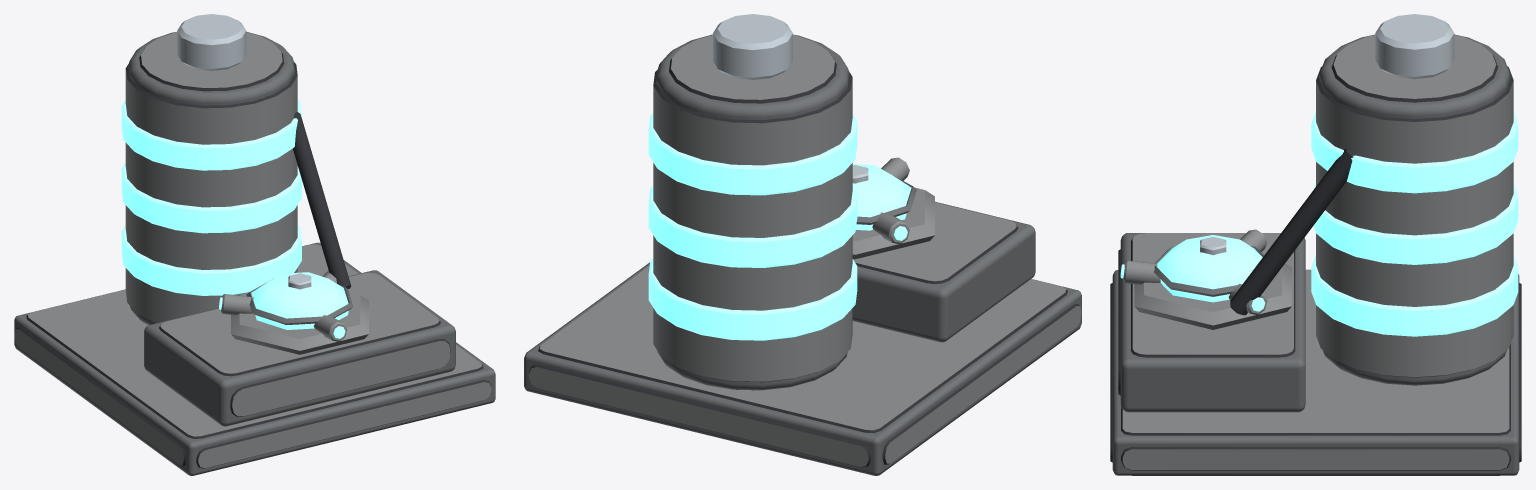
Rendered from R4X_SlowTrapDeployer.glb.
3 views of the same model, side by side, from view 1: azimuth 30°, elevation 25°; view 2: azimuth 150°, elevation 25°; view 3: azimuth 270°, elevation 25° (orthographic). The views are drawn at different scales.
Visible parts, largest first — view 1: R4X_SlowTrapDeployer_Body; view 2: R4X_SlowTrapDeployer_Body; view 3: R4X_SlowTrapDeployer_Body.
Boxes of the visible parts, x1,y1,x2,y2 form: R4X_SlowTrapDeployer_Body: (14, 14, 495, 475); R4X_SlowTrapDeployer_Body: (524, 14, 1081, 475); R4X_SlowTrapDeployer_Body: (1110, 14, 1521, 475).
Bounding box in the file's own units: 0.52 × 0.51 × 0.52.
